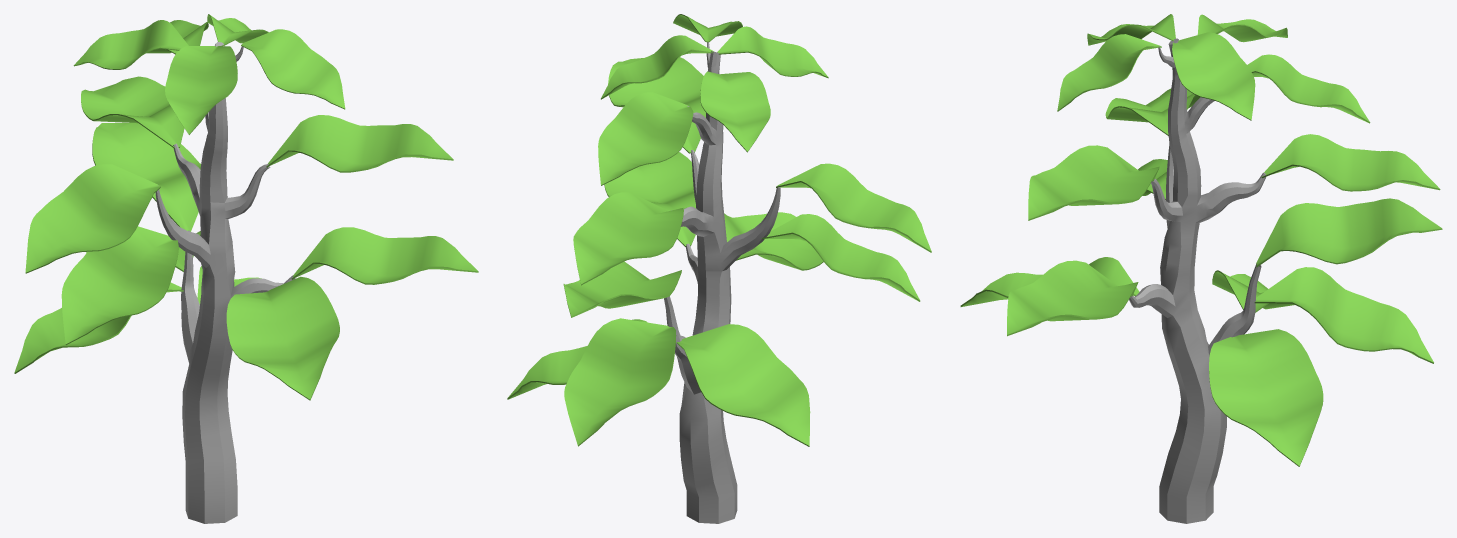
The model's file is Leave.fbx.
3 views of the same model, side by side, from view 1: azimuth 30°, elevation 25°; view 2: azimuth 150°, elevation 25°; view 3: azimuth 270°, elevation 25° (orthographic). The views are drawn at different scales.
Visible parts, largest first — view 1: group_pasted__curve4; view 2: group_pasted__curve4; view 3: group_pasted__curve4.
Boxes of the visible parts, x1,y1,x2,y2 form: group_pasted__curve4: (14, 14, 478, 523); group_pasted__curve4: (507, 14, 931, 523); group_pasted__curve4: (960, 14, 1442, 523).
Bounding box in the file's own units: 1.69 × 2.05 × 1.83.
